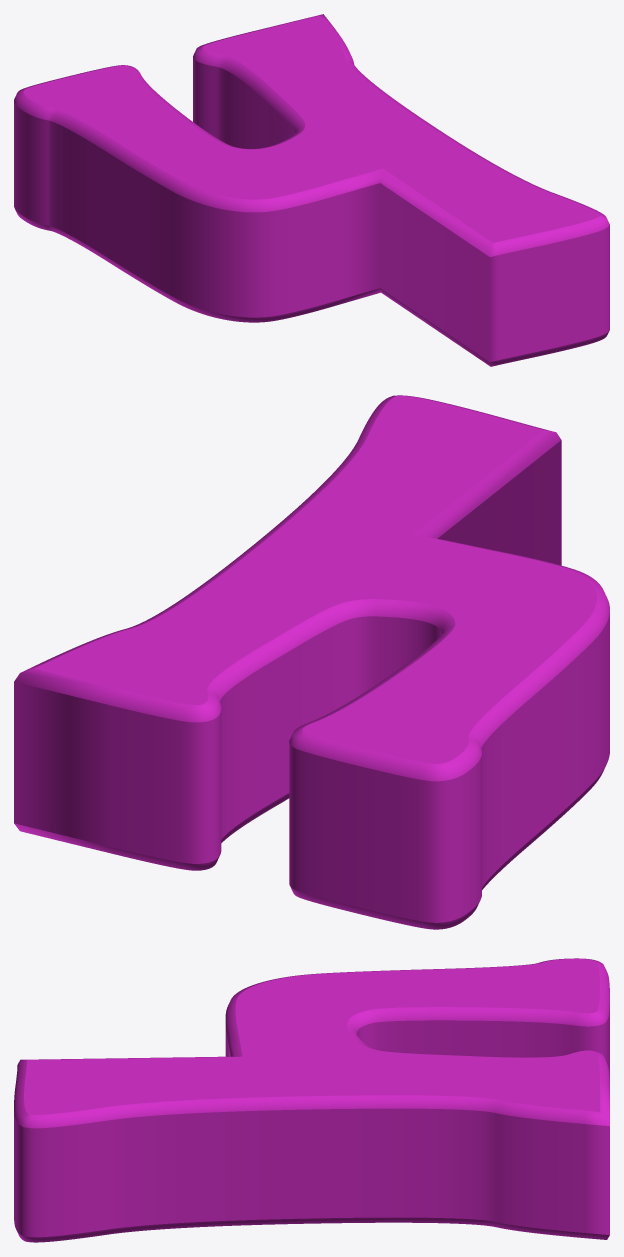
Rendered from Bubble_Letter_h.fbx.
3 renders of one model, top to bottom at view 1: azimuth 30°, elevation 25°; view 2: azimuth 150°, elevation 25°; view 3: azimuth 270°, elevation 25°, orthographic. The views are drawn at different scales.
Visible parts, largest first — view 1: BubbleLetter_h; view 2: BubbleLetter_h; view 3: BubbleLetter_h.
Part boxes in pixels (x1,y1,x2,y2): BubbleLetter_h: (14,14,609,366); BubbleLetter_h: (14,395,609,929); BubbleLetter_h: (14,958,609,1242).
Size of the model in its own units: 0.3889 by 0.14 by 0.5947.
